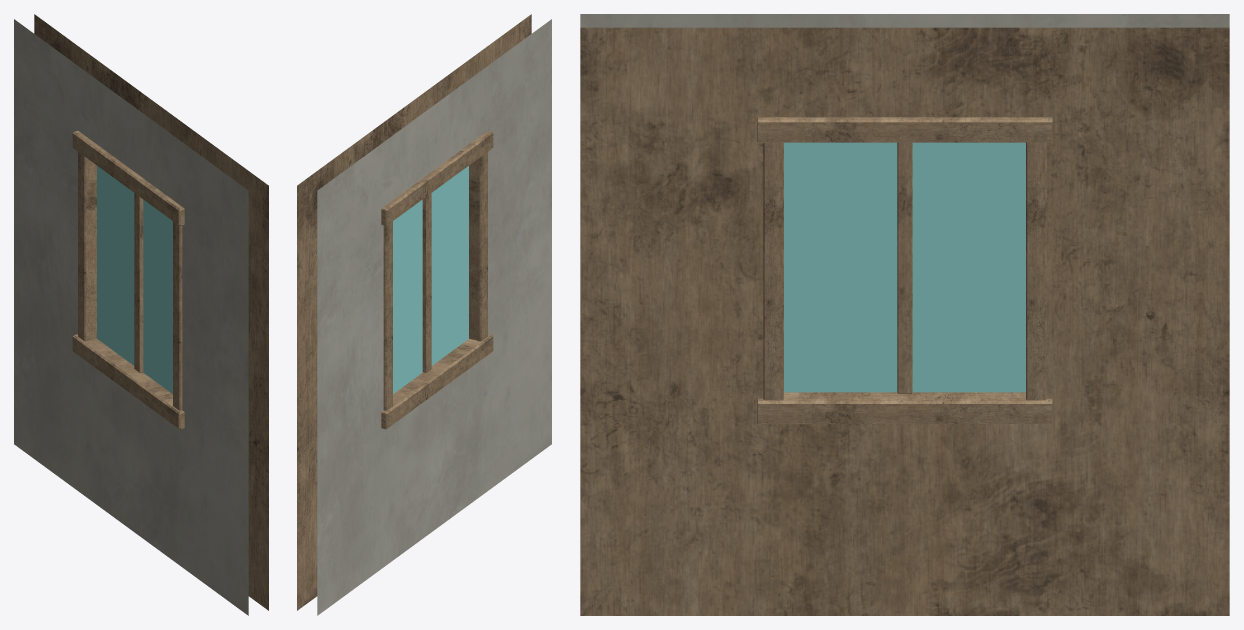
File: Wall_Window.fbx
3 renders of one model, left to right at view 1: azimuth 30°, elevation 25°; view 2: azimuth 150°, elevation 25°; view 3: azimuth 270°, elevation 25°, orthographic. The views are drawn at different scales.
Parts seen in each view (by area): view 1: Cube.054; view 2: Cube.054; view 3: Cube.054.
Part boxes in pixels (<box>): Cube.054: <box>14,14,268,615</box>; Cube.054: <box>297,14,551,615</box>; Cube.054: <box>580,14,1229,615</box>.
Bounding box in the file's own units: 15.59 × 200 × 200.
